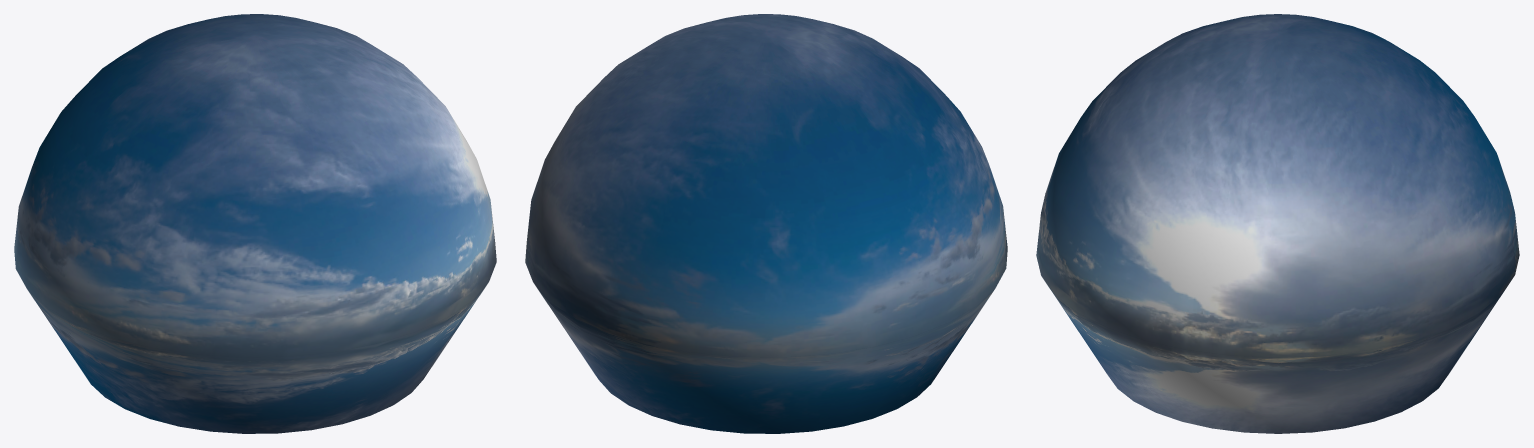
The picture shows the model from 3 angles, left to right: view 1: azimuth 30°, elevation 25°; view 2: azimuth 150°, elevation 25°; view 3: azimuth 270°, elevation 25°; orthographic projection.
Visible parts, largest first — view 1: Skydome; view 2: Skydome; view 3: Skydome.
Boxes of the visible parts, box(x1,y1,x2,y2) form: Skydome: box(14, 14, 496, 433); Skydome: box(525, 14, 1007, 433); Skydome: box(1036, 14, 1519, 433).
Size of what is drawn, in the model's own units: 18201 by 13505 by 18201.
